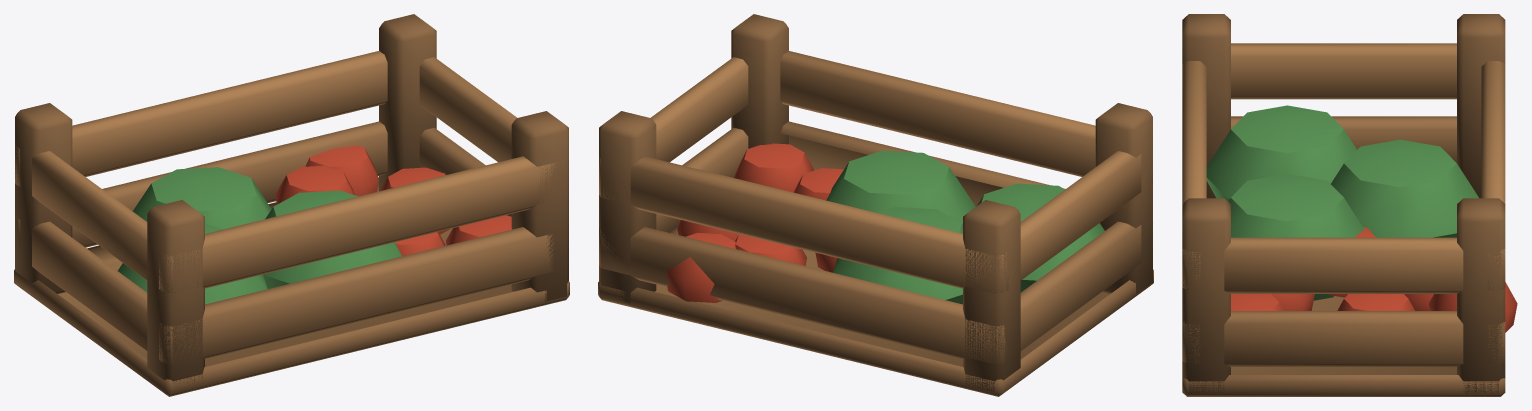
Rendered from SM_ProduceCrate_01.glb.
3 renders of one model, left to right at view 1: azimuth 30°, elevation 25°; view 2: azimuth 150°, elevation 25°; view 3: azimuth 270°, elevation 25°, orthographic. The views are drawn at different scales.
Visible parts, largest first — view 1: SM_ProduceCrate_01; view 2: SM_ProduceCrate_01; view 3: SM_ProduceCrate_01.
Boxes of the visible parts, left/top/right/bottom form: SM_ProduceCrate_01: left=14, top=14, right=569, bottom=396; SM_ProduceCrate_01: left=598, top=14, right=1153, bottom=396; SM_ProduceCrate_01: left=1182, top=14, right=1517, bottom=396.
Size of the model in its own units: 0.6 by 0.25 by 0.415.
1 material, 1 textured.
